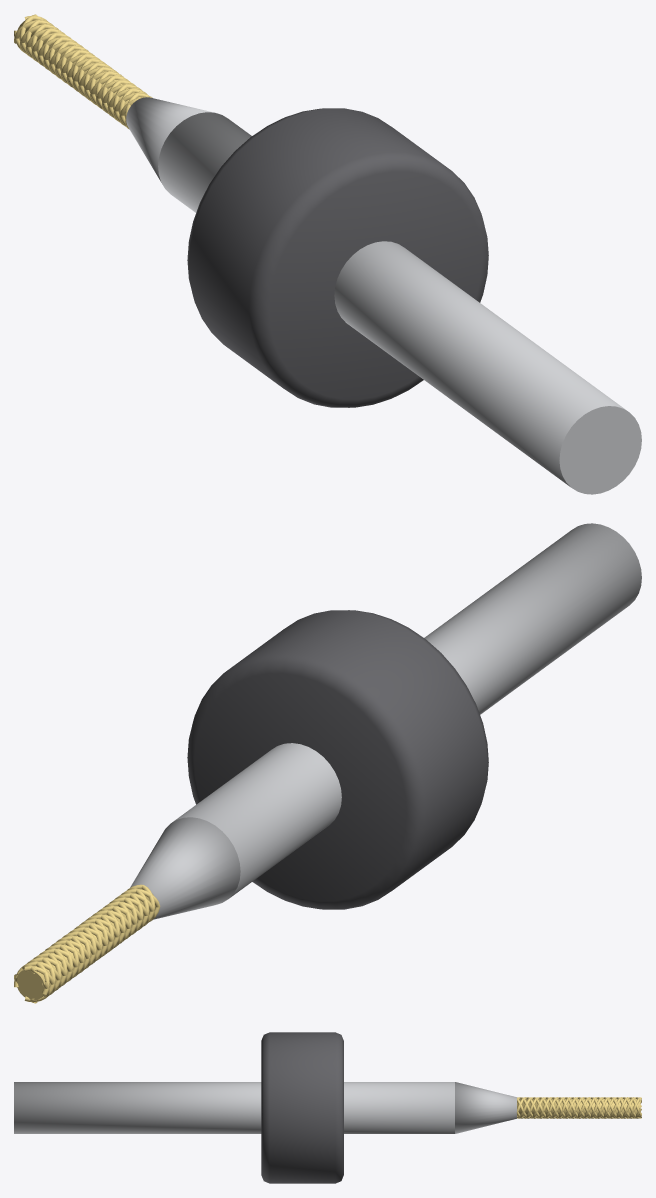
Rendered from corn18_1p3.glb.
3 views of the same model, one above another, from view 1: azimuth 30°, elevation 25°; view 2: azimuth 150°, elevation 25°; view 3: azimuth 270°, elevation 25° (orthographic). The views are drawn at different scales.
Parts seen in each view (by area): view 1: Cylinder.002, Cylinder.001, Cone, flute.007, flute.006, flute.001, flute, flute.002, flute.005, flute.004, flute.003; view 2: Cylinder.002, Cylinder.001, Cone, Cylinder, flute.007, flute, flute.005, flute.002, flute.001, flute.006, flute.004, flute.003; view 3: Cylinder.001, Cylinder.002, Cone, Cylinder, flute.006, flute.005, flute.004, flute.003, flute, flute.007, flute.001, flute.002.
Boxes of the visible parts, bbox=[...] form: Cylinder.002: bbox=[187, 108, 488, 407]; Cylinder.001: bbox=[158, 112, 641, 494]; Cone: bbox=[126, 97, 213, 182]; flute.007: bbox=[25, 18, 140, 129]; flute.006: bbox=[14, 20, 147, 115]; flute.001: bbox=[19, 14, 134, 126]; flute: bbox=[19, 24, 152, 120]; flute.002: bbox=[25, 28, 142, 124]; flute.005: bbox=[31, 23, 146, 118]; flute.004: bbox=[24, 15, 141, 128]; flute.003: bbox=[14, 27, 151, 122]; Cylinder.002: bbox=[187, 610, 488, 909]; Cylinder.001: bbox=[172, 523, 641, 898]; Cone: bbox=[130, 817, 240, 919]; Cylinder: bbox=[16, 888, 155, 1000]; flute.007: bbox=[14, 893, 154, 988]; flute: bbox=[24, 887, 149, 1001]; flute.005: bbox=[27, 888, 160, 1003]; flute.002: bbox=[14, 885, 154, 994]; flute.001: bbox=[24, 897, 149, 993]; flute.006: bbox=[28, 891, 143, 994]; flute.004: bbox=[22, 896, 159, 990]; flute.003: bbox=[33, 884, 143, 997]; Cylinder.001: bbox=[14, 1082, 454, 1133]; Cylinder.002: bbox=[261, 1032, 343, 1183]; Cone: bbox=[455, 1082, 516, 1133]; Cylinder: bbox=[517, 1099, 640, 1116]; flute.006: bbox=[517, 1097, 641, 1118]; flute.005: bbox=[520, 1097, 641, 1118]; flute.004: bbox=[523, 1097, 641, 1118]; flute.003: bbox=[517, 1097, 641, 1118]; flute: bbox=[517, 1097, 641, 1118]; flute.007: bbox=[526, 1097, 641, 1118]; flute.001: bbox=[517, 1097, 641, 1118]; flute.002: bbox=[517, 1097, 641, 1118].
Bounding box in the file's own units: 0.00917 × 0.00917 × 0.0381.
